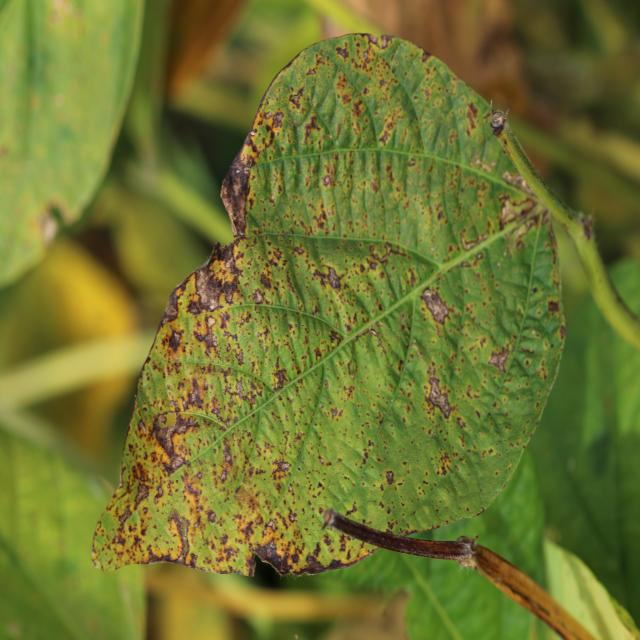Bacterial_Blight: (270, 533, 366, 578), (218, 142, 255, 239), (149, 410, 196, 468), (423, 360, 460, 424), (248, 530, 289, 586), (191, 261, 230, 313), (95, 536, 125, 572), (181, 382, 207, 413), (367, 324, 389, 356), (161, 289, 180, 324), (175, 513, 190, 554), (132, 479, 151, 508), (207, 240, 224, 266), (116, 502, 133, 527), (580, 214, 594, 240), (346, 351, 359, 379), (326, 266, 341, 289), (243, 553, 256, 577), (186, 297, 202, 316), (329, 329, 342, 347), (137, 418, 147, 436), (345, 502, 357, 515), (477, 503, 488, 517), (266, 519, 277, 532)
Soybean: (92, 34, 565, 574)
